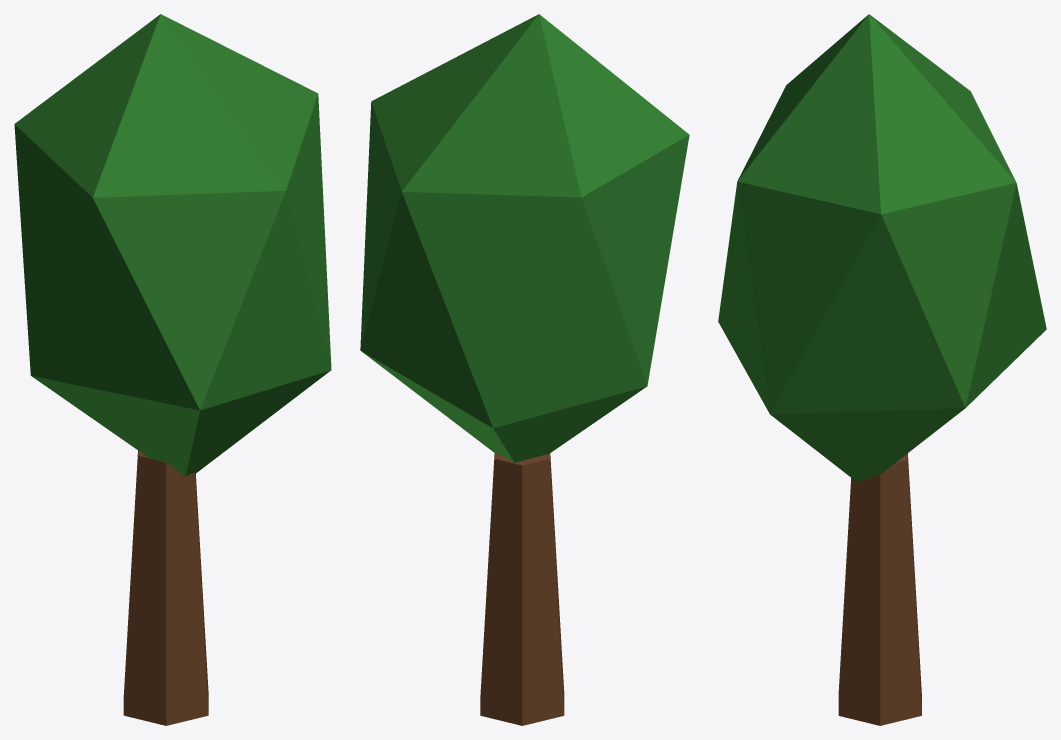
Rendered from tree_teak.glb.
3 renders of one model, left to right at view 1: azimuth 30°, elevation 25°; view 2: azimuth 150°, elevation 25°; view 3: azimuth 270°, elevation 25°, orthographic.
Parts seen in each view (by area): view 1: tree_teak; view 2: tree_teak; view 3: tree_teak.
Boxes of the visible parts, left/top/right/bottom form: tree_teak: left=14, top=14, right=331, bottom=725; tree_teak: left=360, top=14, right=689, bottom=725; tree_teak: left=718, top=14, right=1046, bottom=725.
Size of the model in its own units: 2.17 by 5.11 by 2.22.
